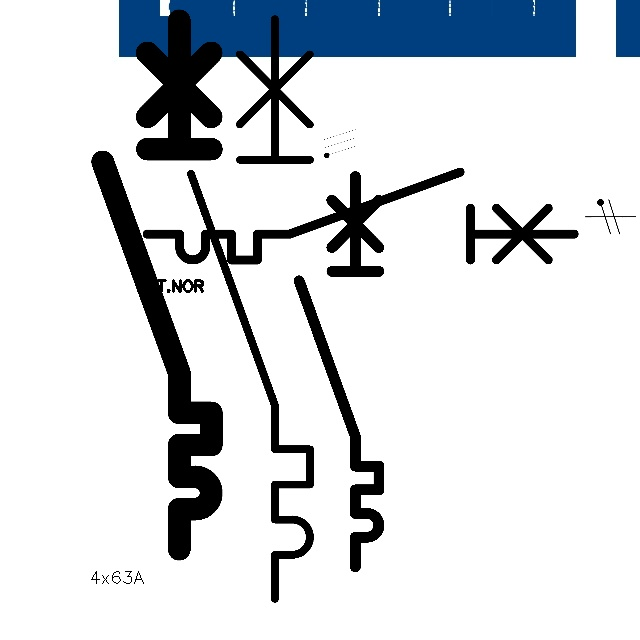interruptor_termomagnetico: (176, 4, 325, 614), (89, 7, 225, 563), (136, 161, 585, 271), (289, 166, 389, 577)
